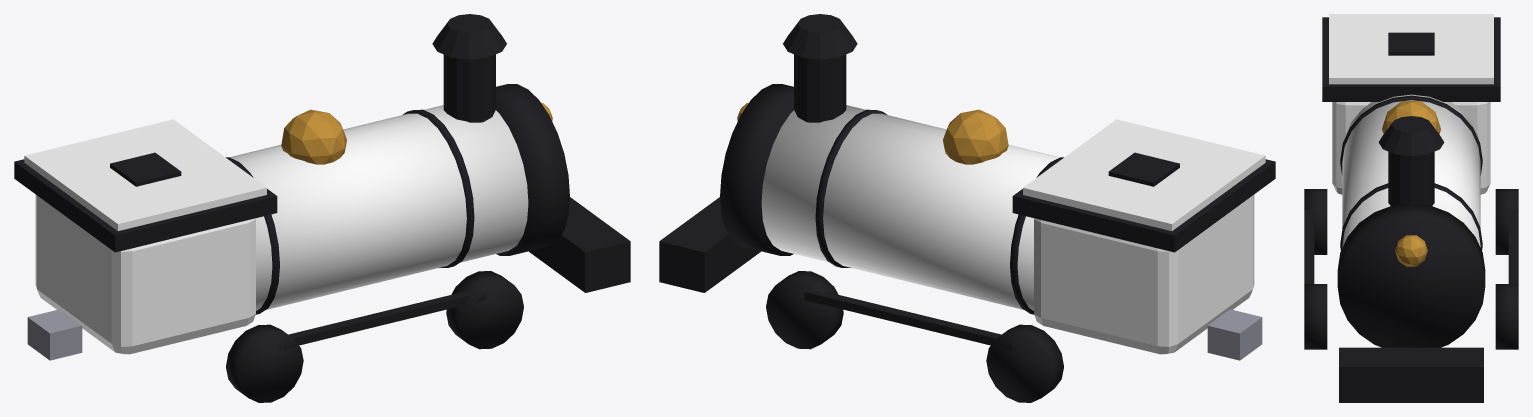
The model's file is loco.glb.
The picture shows the model from 3 angles, left to right: view 1: azimuth 30°, elevation 25°; view 2: azimuth 150°, elevation 25°; view 3: azimuth 270°, elevation 25°; orthographic projection. The views are drawn at different scales.
Visible parts, largest first — view 1: BOILER, CAB, CAB_ROOF_WHITE, SMOKEBOX, CAB_ROOF_DARK, COWCATCHER, WHEEL_-0.2_-0.145, WHEEL_0.14_-0.145, CHIMNEY, DOME, SIDE_ROD_-0.155, CHIMNEY_CAP (+4 smaller); view 2: BOILER, CAB, CAB_ROOF_WHITE, SMOKEBOX, CAB_ROOF_DARK, COWCATCHER, WHEEL_-0.2_0.145, WHEEL_0.14_0.145, CHIMNEY, DOME, SIDE_ROD_0.155, CHIMNEY_CAP (+4 smaller); view 3: SMOKEBOX, CAB_ROOF_WHITE, BOILER, COWCATCHER, CAB_ROOF_DARK, CAB, CHIMNEY, CHIMNEY_CAP, WHEEL_0.14_0.145, WHEEL_0.14_-0.145, WHEEL_-0.2_0.145, WHEEL_-0.2_-0.145 (+7 smaller).
Boxes of the visible parts, left/top/right/bottom form: BOILER: left=230, top=105, right=528, bottom=310; CAB: left=35, top=194, right=255, bottom=354; CAB_ROOF_WHITE: left=24, top=119, right=266, bottom=230; SMOKEBOX: left=496, top=84, right=569, bottom=255; CAB_ROOF_DARK: left=14, top=159, right=277, bottom=252; COWCATCHER: left=529, top=197, right=630, bottom=292; WHEEL_-0.2_-0.145: left=226, top=324, right=303, bottom=402; WHEEL_0.14_-0.145: left=446, top=271, right=523, bottom=349; CHIMNEY: left=443, top=54, right=495, bottom=122; DOME: left=281, top=109, right=346, bottom=164; SIDE_ROD_-0.155: left=277, top=292, right=485, bottom=350; CHIMNEY_CAP: left=432, top=14, right=506, bottom=59; BOILER: left=761, top=105, right=1059, bottom=310; CAB: left=1034, top=194, right=1254, bottom=354; CAB_ROOF_WHITE: left=1023, top=119, right=1265, bottom=230; SMOKEBOX: left=720, top=84, right=793, bottom=255; CAB_ROOF_DARK: left=1012, top=159, right=1275, bottom=252; COWCATCHER: left=659, top=197, right=760, bottom=292; WHEEL_-0.2_0.145: left=986, top=324, right=1063, bottom=402; WHEEL_0.14_0.145: left=766, top=271, right=843, bottom=349; CHIMNEY: left=794, top=54, right=846, bottom=122; DOME: left=943, top=109, right=1008, bottom=164; SIDE_ROD_0.155: left=804, top=292, right=1012, bottom=350; CHIMNEY_CAP: left=783, top=14, right=857, bottom=59; SMOKEBOX: left=1337, top=204, right=1485, bottom=347; CAB_ROOF_WHITE: left=1329, top=14, right=1493, bottom=84; BOILER: left=1342, top=94, right=1480, bottom=247; COWCATCHER: left=1339, top=347, right=1483, bottom=402; CAB_ROOF_DARK: left=1322, top=17, right=1500, bottom=101; CAB: left=1332, top=102, right=1490, bottom=194; CHIMNEY: left=1388, top=151, right=1434, bottom=205; CHIMNEY_CAP: left=1378, top=116, right=1444, bottom=156; WHEEL_0.14_0.145: left=1495, top=284, right=1518, bottom=349; WHEEL_0.14_-0.145: left=1304, top=284, right=1327, bottom=349; WHEEL_-0.2_0.145: left=1495, top=189, right=1518, bottom=254; WHEEL_-0.2_-0.145: left=1304, top=189, right=1327, bottom=254.
Size of the model in its own units: 0.85 by 0.4 by 0.325.
